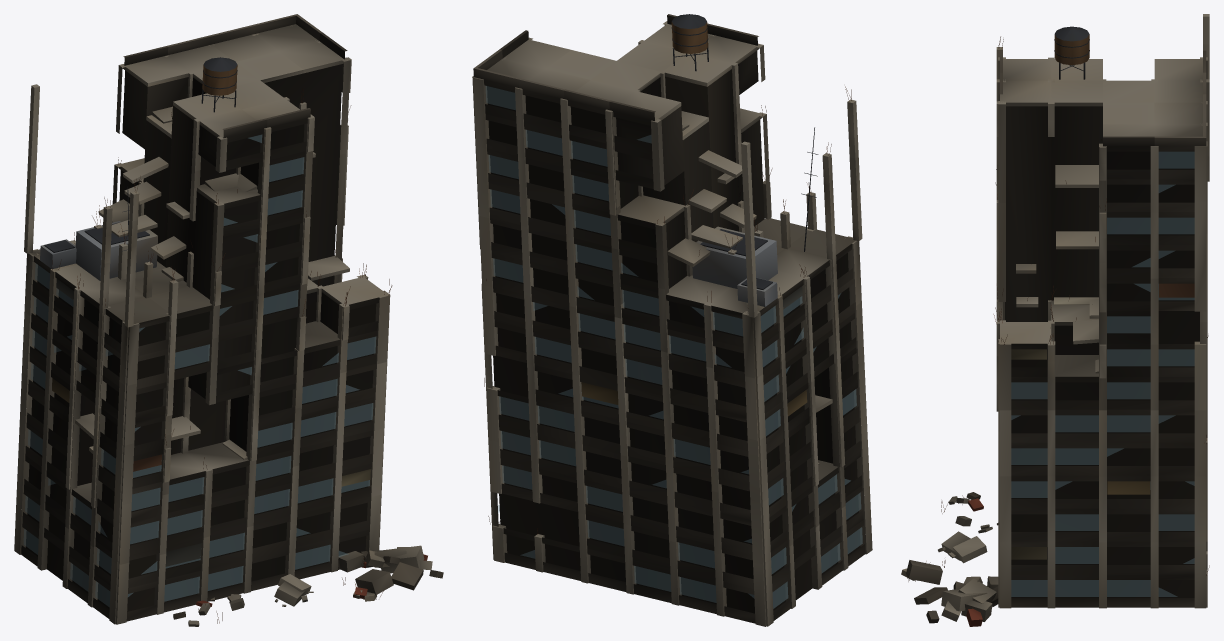
Rendered from ruin_office_a.glb.
The picture shows the model from 3 angles, left to right: view 1: azimuth 30°, elevation 25°; view 2: azimuth 150°, elevation 25°; view 3: azimuth 270°, elevation 25°; orthographic projection. The views are drawn at different scales.
Visible parts, largest first — view 1: concrete_dark, concrete, glass, metal_bare, canvas, metal_dark, wood, rebar; view 2: concrete_dark, concrete, glass, metal_bare, metal_dark, canvas, wood; view 3: concrete_dark, concrete, glass, canvas, wood, metal_dark.
Part boxes in pixels (x1,y1,x2,y2): concrete_dark: [21, 14, 443, 621]; concrete: [14, 24, 432, 626]; glass: [24, 135, 375, 606]; metal_bare: [40, 221, 157, 280]; canvas: [52, 279, 370, 566]; metal_dark: [44, 57, 237, 252]; wood: [202, 65, 237, 95]; rebar: [52, 87, 392, 623]; concrete_dark: [473, 14, 865, 623]; concrete: [472, 21, 872, 626]; glass: [485, 86, 862, 608]; metal_bare: [692, 226, 777, 306]; metal_dark: [671, 14, 818, 289]; canvas: [581, 286, 807, 416]; wood: [671, 22, 708, 53]; concrete_dark: [906, 50, 1206, 623]; concrete: [901, 14, 1209, 621]; glass: [1011, 152, 1194, 596]; canvas: [1011, 283, 1194, 559]; wood: [1054, 34, 1089, 65]; metal_dark: [1054, 26, 1089, 79].
Size of what is drawn, in the model's own units: 34.4 by 55.86 by 29.92.
